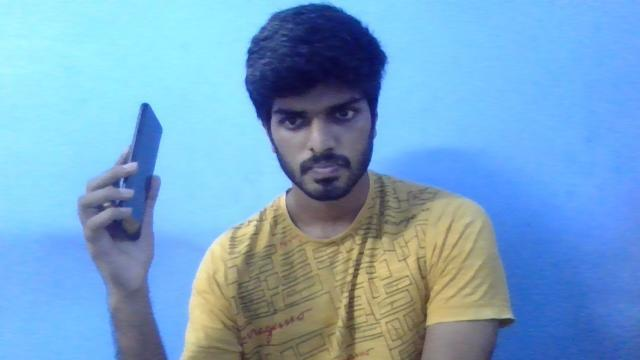PhoneUse: (121, 98, 163, 236)
SafeDriving: (324, 92, 368, 126), (269, 101, 315, 133)
